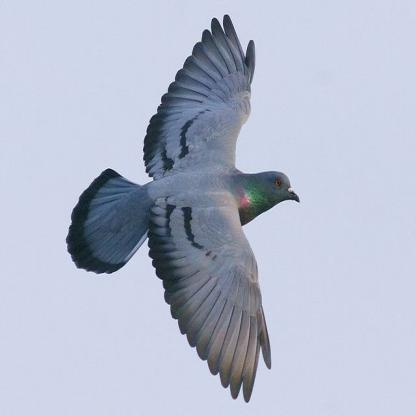Flying Rat: (72, 31, 290, 397)
